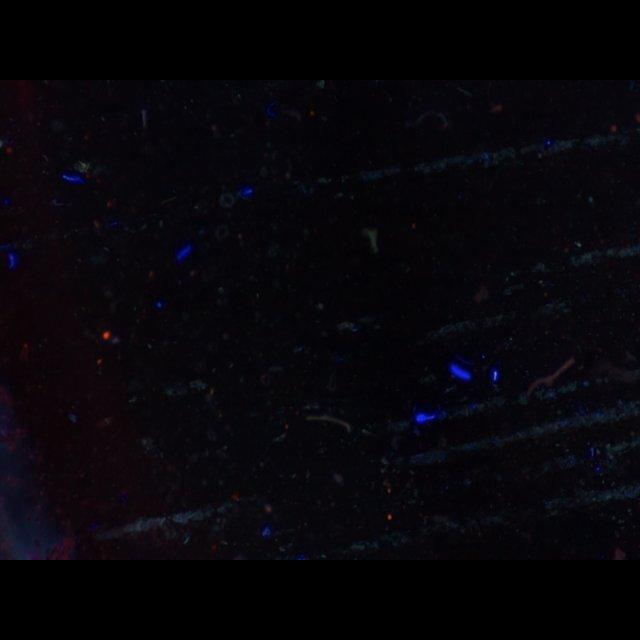Fibre: (361, 228, 377, 254)
